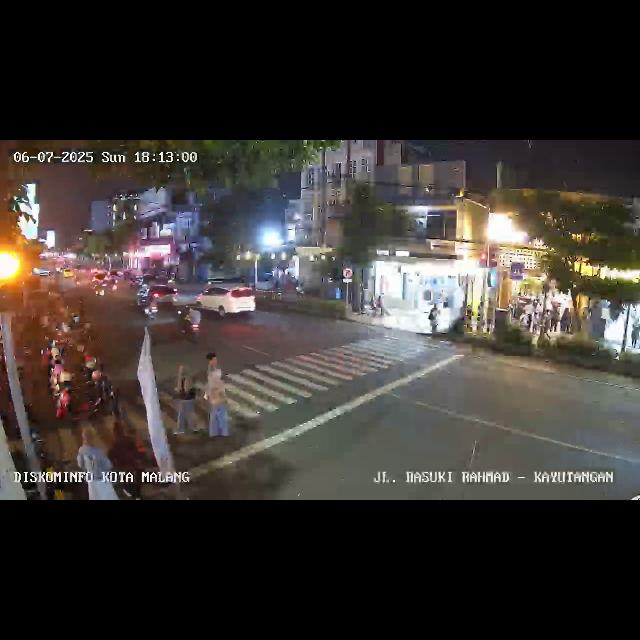car: (196, 282, 256, 322), (148, 280, 180, 306)
motorcycle: (182, 301, 202, 339), (142, 288, 158, 320)
person: (75, 428, 113, 498), (208, 368, 232, 440), (174, 364, 196, 434), (204, 350, 224, 378), (542, 306, 554, 338), (560, 305, 572, 335), (428, 302, 438, 334), (632, 321, 640, 349)
